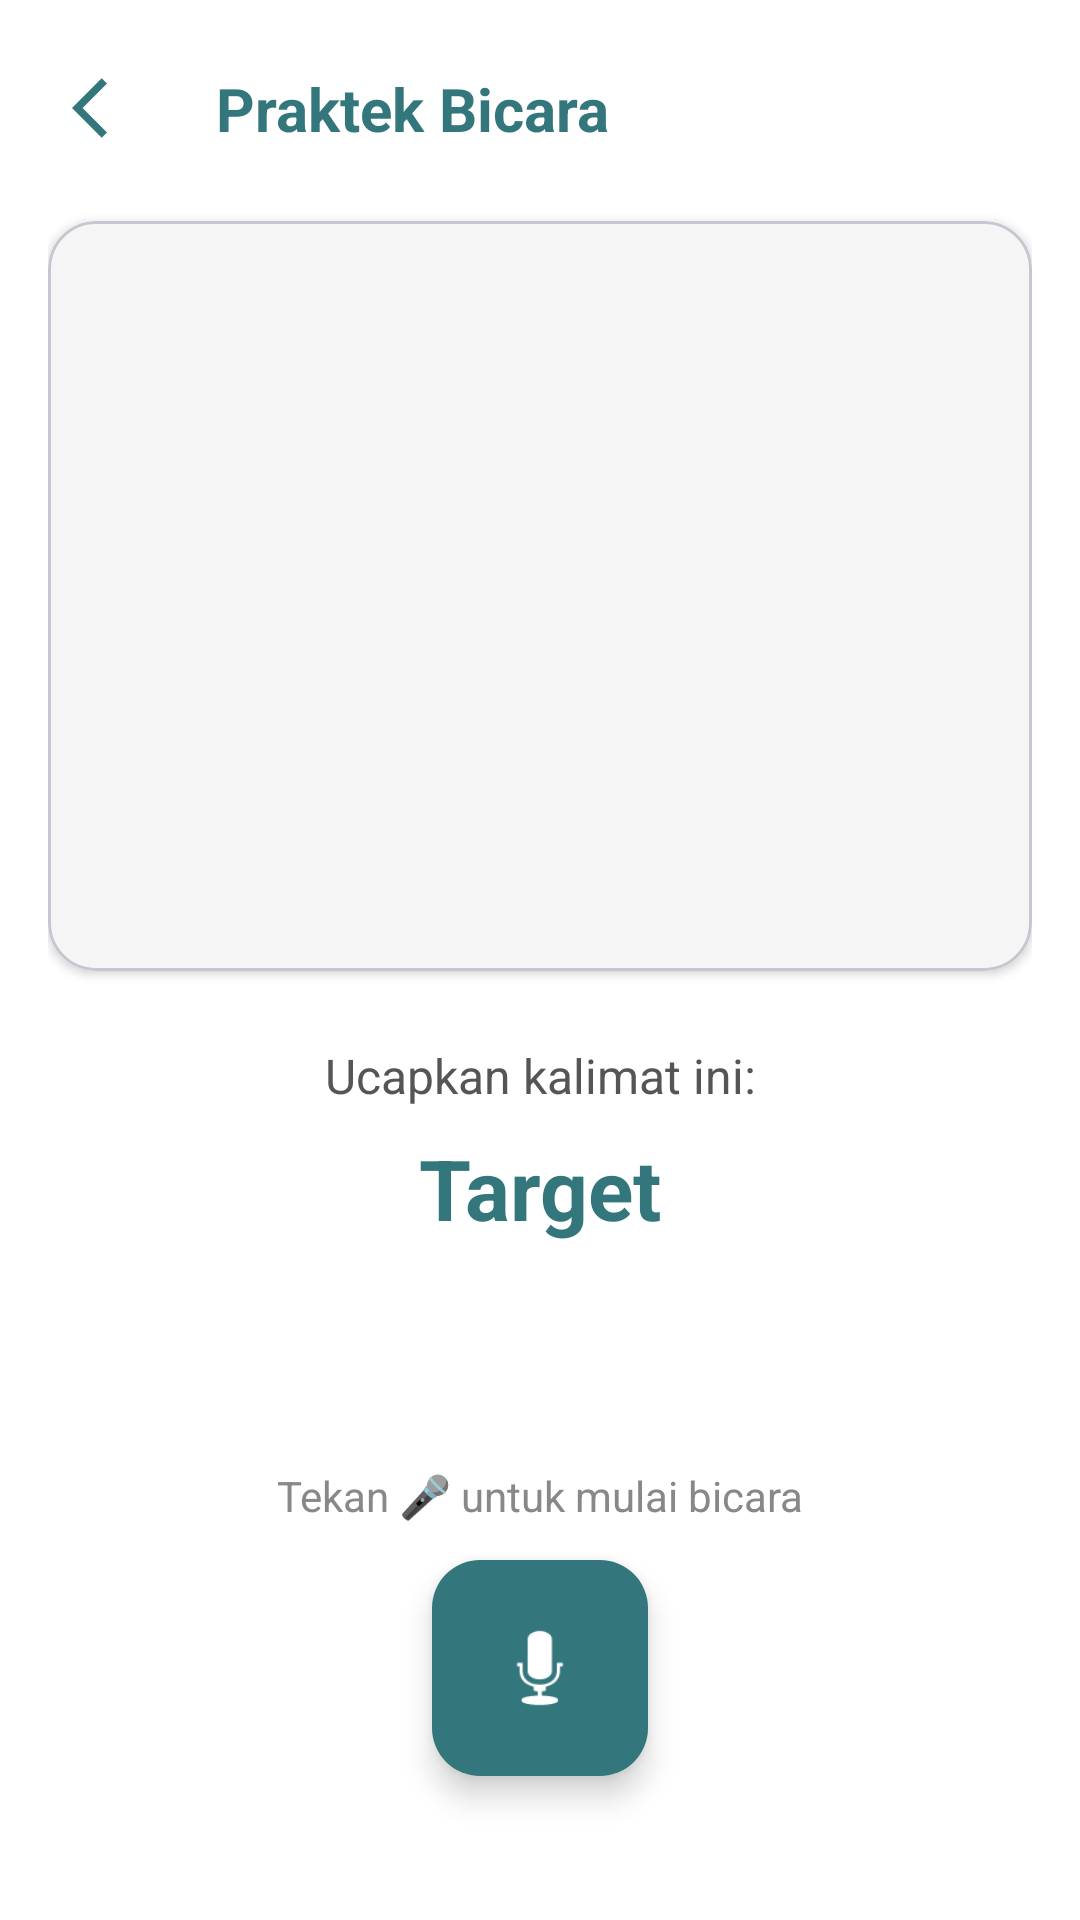

Where to tap for icons on this 1080 x 1920 app screen, as (x=x, y=y):
Back Button: (x=89, y=108)
